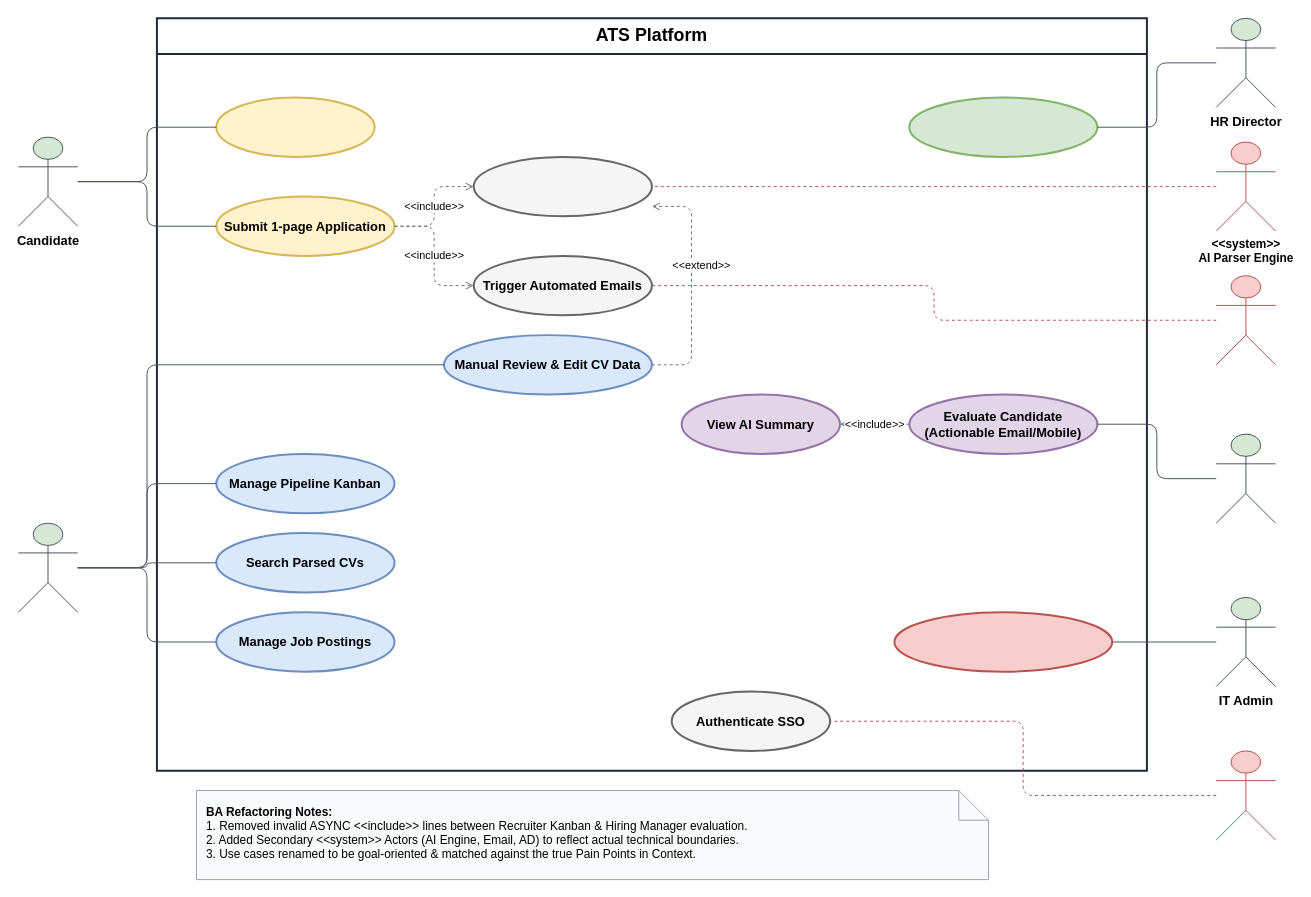
Some shapes in this 1311 by 897 pixel diagram are drawn without their labels. Each missing label, with the centre of its shape:
<<system>> Email Gateway: the point at 1245,320
<<system>> Windows AD: the point at 1245,795
Auto-parse Candidate Data: the point at 562,186
Configure System Security & SSO: the point at 1003,641
Hiring Manager: the point at 1245,478
Recruiter: the point at 47,567
View Career Site: the point at 295,126
View KPI & Cost Dashboard: the point at 1003,126
